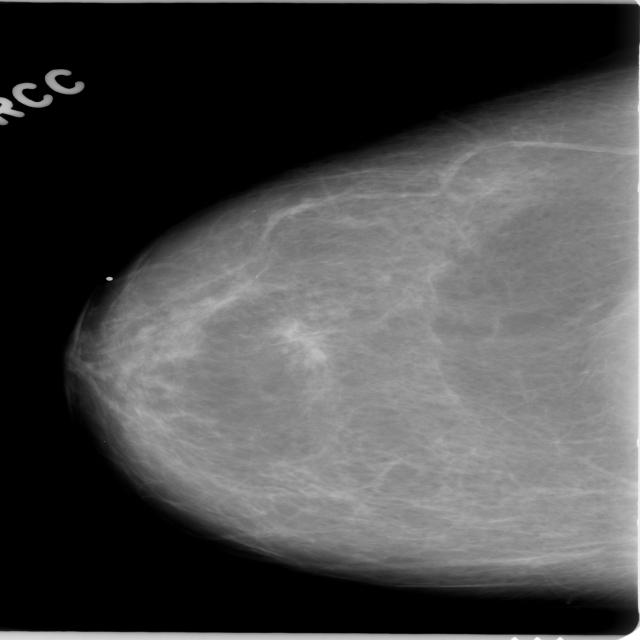normal: (51, 63, 640, 624)
